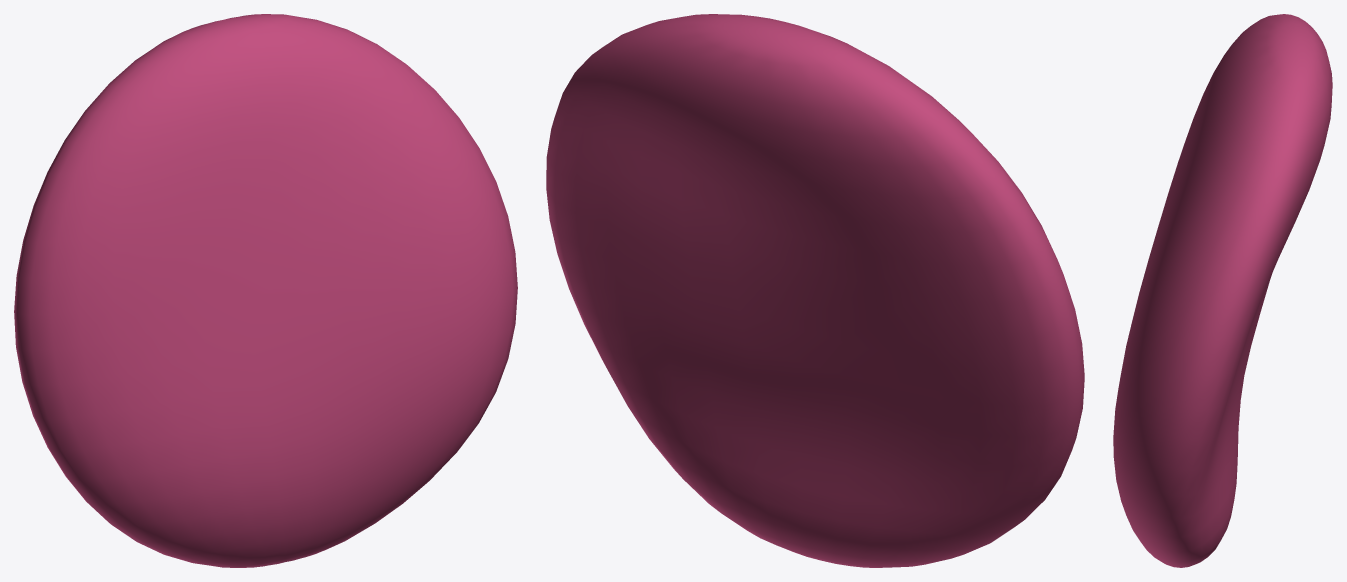
The picture shows the model from 3 angles, left to right: view 1: azimuth 30°, elevation 25°; view 2: azimuth 150°, elevation 25°; view 3: azimuth 270°, elevation 25°; orthographic projection. The views are drawn at different scales.
Visible parts, largest first — view 1: 左侧肩峰下囊; view 2: 左侧肩峰下囊; view 3: 左侧肩峰下囊.
Boxes of the visible parts, bbox=[...] form: 左侧肩峰下囊: bbox=[14, 14, 517, 567]; 左侧肩峰下囊: bbox=[546, 14, 1084, 567]; 左侧肩峰下囊: bbox=[1113, 14, 1332, 567].
Bounding box in the file's own units: 0.0341 × 0.0342 × 0.0135.
